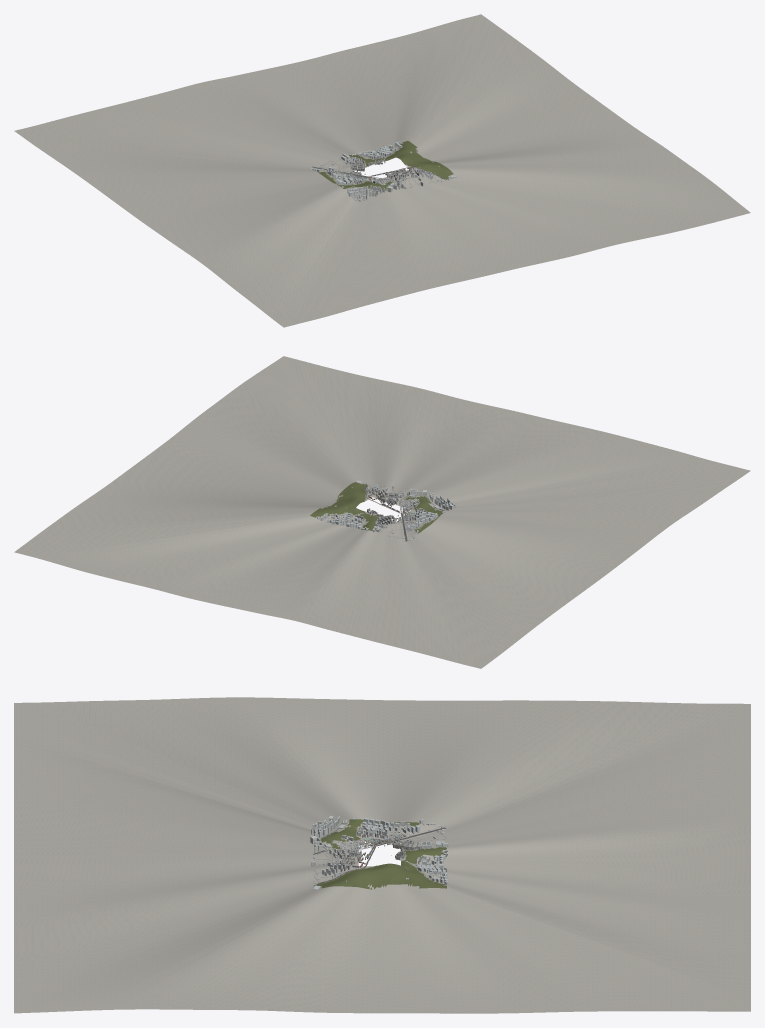
3 renders of one model, top to bottom at view 1: azimuth 30°, elevation 25°; view 2: azimuth 150°, elevation 25°; view 3: azimuth 270°, elevation 25°, orthographic. The views are drawn at different scales.
Parts seen in each view (by area): view 1: ctx-ground, ctx-buildings; view 2: ctx-ground, ctx-buildings; view 3: ctx-ground, ctx-buildings.
Part boxes in pixels (box(x1,y1,x2,y2)): ctx-ground: box(14, 14, 750, 327); ctx-buildings: box(312, 141, 456, 201); ctx-ground: box(14, 356, 750, 668); ctx-buildings: box(317, 480, 455, 538); ctx-ground: box(14, 697, 750, 1013); ctx-buildings: box(310, 816, 448, 889).
Size of the model in its own units: 8000 by 159 by 8000.
Materials: 22 (19 with a texture image).
